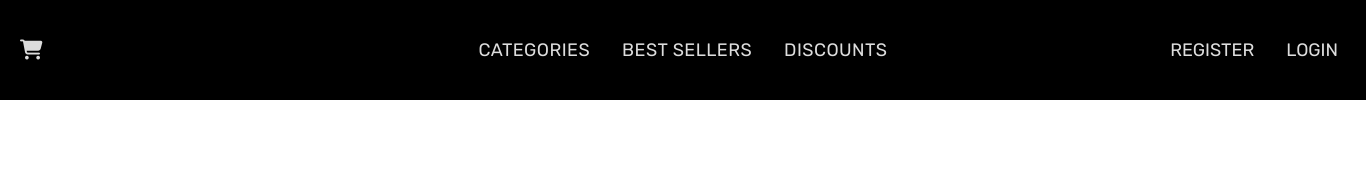
Scenario: MainHeader › should render previews with data from category service
The image size is (1366, 171).
Step 1. Click the button with test id "categories-toggle" → (534, 50), box [470,28,598,72]
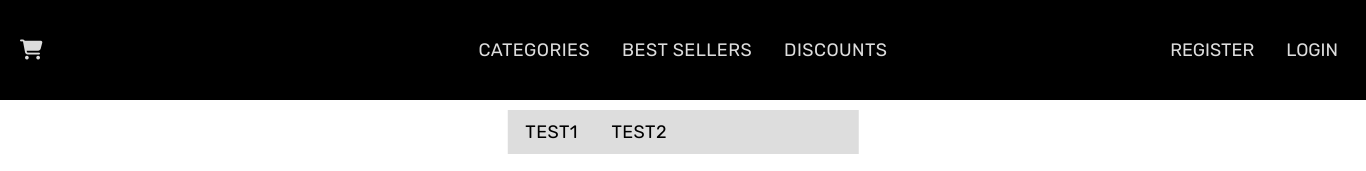
Check: the element with test id "categories-preview" is shown, box [508,110,858,154]
Check: the link with test id "category-preview-1" reads "test1", box [525,121,578,143]
Check: the link with test id "category-preview-2" reads "test2", box [611,121,667,143]
